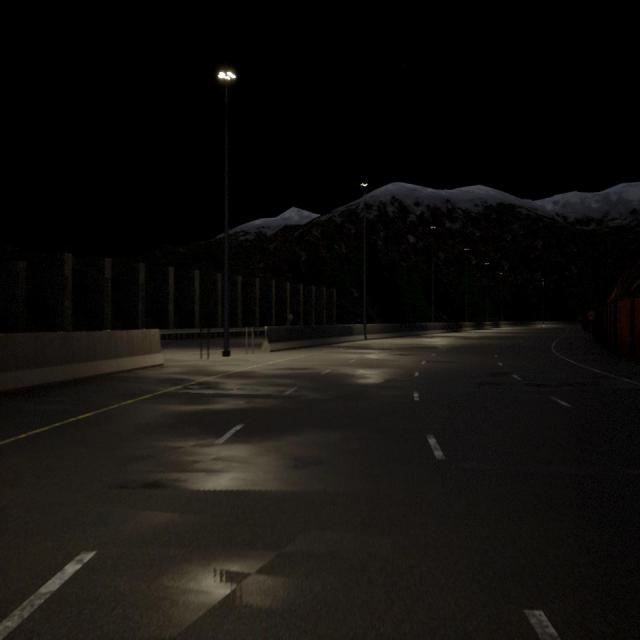Traffic_Signs: (588, 311, 594, 320), (288, 314, 292, 319)
